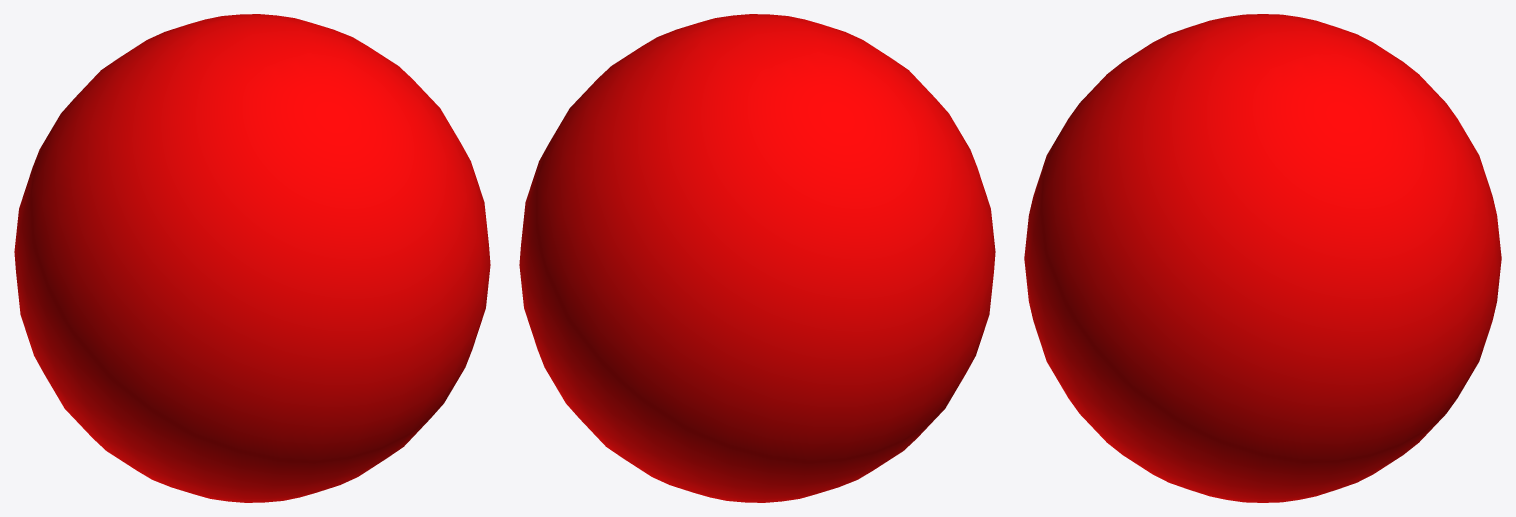
The model's file is Ball_Placeholder.glb.
The picture shows the model from 3 angles, left to right: view 1: azimuth 30°, elevation 25°; view 2: azimuth 150°, elevation 25°; view 3: azimuth 270°, elevation 25°; orthographic projection.
Visible parts, largest first — view 1: Ball_Placeholder; view 2: Ball_Placeholder; view 3: Ball_Placeholder.
Boxes of the visible parts, x1,y1,x2,y2 form: Ball_Placeholder: (14, 14, 490, 502); Ball_Placeholder: (519, 14, 995, 502); Ball_Placeholder: (1024, 14, 1501, 502).
Size of the model in its own units: 1.9 by 1.97 by 1.9.
